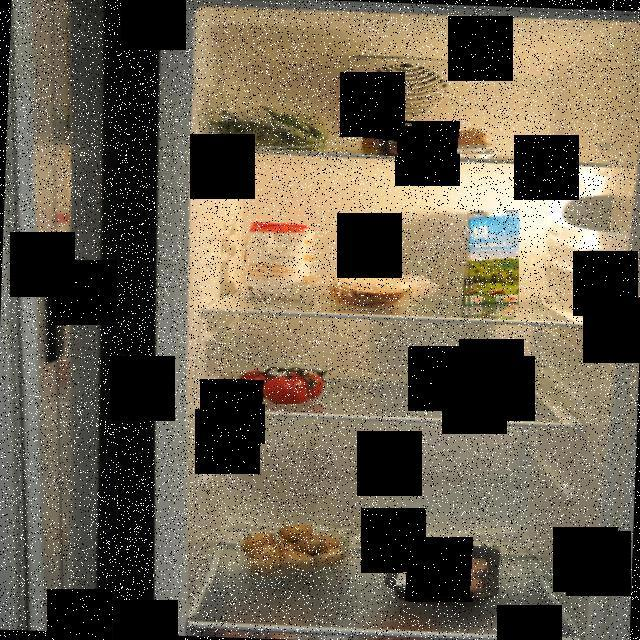bread: (322, 269, 418, 308)
chicken_breast: (397, 548, 492, 602)
corn: (356, 118, 412, 156)
eggs: (426, 127, 494, 158)
milk: (462, 210, 520, 316)
potato: (241, 525, 349, 585)
spinach: (200, 103, 332, 153)
sugar: (244, 218, 319, 303)
tomato: (237, 358, 332, 404)
